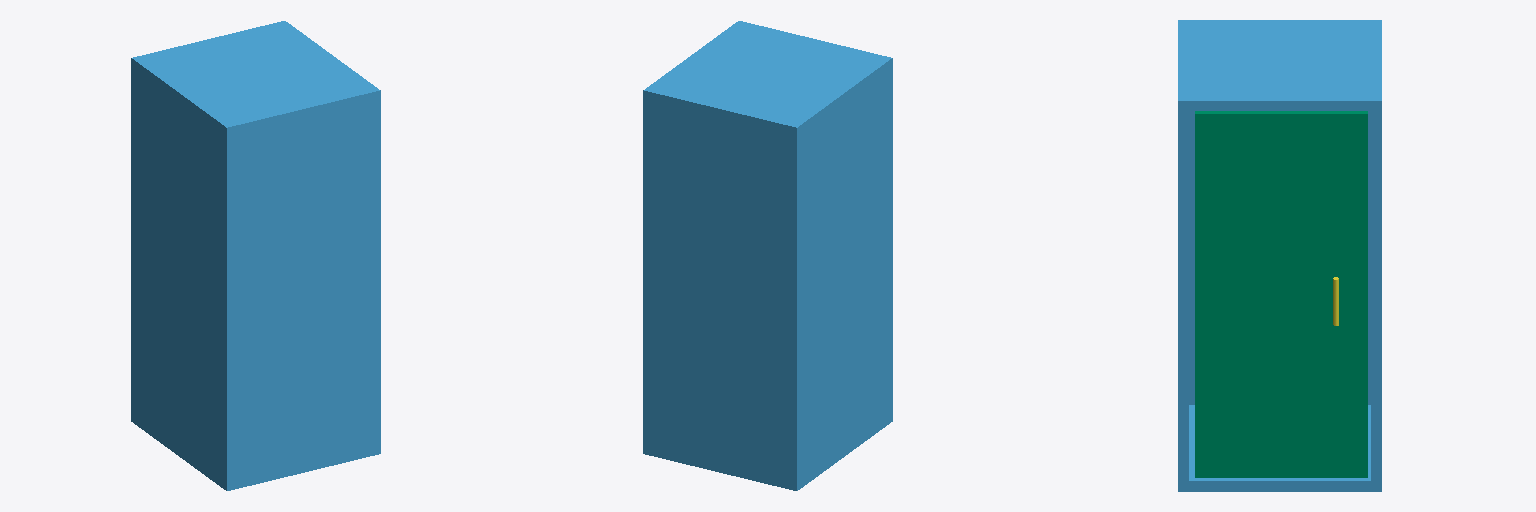
The robot description file, URDF, robot "my_cabinet":
<?xml version="1.0" ?>
<robot name="my_cabinet">
	<link name="world"/>
	<joint name="virtual_joint" type="fixed">
		<parent link="world"/>
		<child link="base_cabinet_link"/>
		<origin xyz="0.0 0.0 0.0" rpy="0.0 0.0 0.0"/>
	</joint>
	<link name="base_cabinet_link">
		<visual>
			<origin xyz="0.0 -0.0025 -0.3302910461903211" rpy="0.0 0.0 0.0"/>
			<geometry>
				<box size="0.3 0.32282359411819045 0.018"/>
			</geometry>
		</visual>
		<collision name="base_cabinet_link_collision_0">
			<origin xyz="0.0 -0.0025 -0.3302910461903211" rpy="0.0 0.0 0.0"/>
			<geometry>
				<box size="0.3 0.32282359411819045 0.018"/>
			</geometry>
		</collision>
		<visual>
			<origin xyz="0.0 0.14991179705909524 0.0" rpy="0.0 0.0 0.0"/>
			<geometry>
				<box size="0.3 0.018 0.6785820923806423"/>
			</geometry>
		</visual>
		<collision name="base_cabinet_link_collision_1">
			<origin xyz="0.0 0.14991179705909524 0.0" rpy="0.0 0.0 0.0"/>
			<geometry>
				<box size="0.3 0.018 0.6785820923806423"/>
			</geometry>
		</collision>
		<visual>
			<origin xyz="0.0 -0.15491179705909525 0.0" rpy="0.0 0.0 0.0"/>
			<geometry>
				<box size="0.3 0.018 0.6785820923806423"/>
			</geometry>
		</visual>
		<collision name="base_cabinet_link_collision_2">
			<origin xyz="0.0 -0.15491179705909525 0.0" rpy="0.0 0.0 0.0"/>
			<geometry>
				<box size="0.3 0.018 0.6785820923806423"/>
			</geometry>
		</collision>
		<visual>
			<origin xyz="0.0 -0.0025 0.3302910461903211" rpy="0.0 0.0 0.0"/>
			<geometry>
				<box size="0.3 0.32282359411819045 0.018"/>
			</geometry>
		</visual>
		<collision name="base_cabinet_link_collision_3">
			<origin xyz="0.0 -0.0025 0.3302910461903211" rpy="0.0 0.0 0.0"/>
			<geometry>
				<box size="0.3 0.32282359411819045 0.018"/>
			</geometry>
		</collision>
		<visual>
			<origin xyz="-0.141 -0.0025 0.0" rpy="0.0 0.0 0.0"/>
			<geometry>
				<box size="0.018 0.32282359411819045 0.6785820923806423"/>
			</geometry>
		</visual>
		<collision name="base_cabinet_link_collision_4">
			<origin xyz="-0.141 -0.0025 0.0" rpy="0.0 0.0 0.0"/>
			<geometry>
				<box size="0.018 0.32282359411819045 0.6785820923806423"/>
			</geometry>
		</collision>
		<inertial>
			<mass value="0.200000"/>
			<inertia ixx="0.009411" ixy="0.0" ixz="0.0" iyy="0.009175" iyz="0.0" izz="0.003237"/>
		</inertial>
	</link>
	<link name="door_link">
		<visual>
			<origin xyz="0.0 -0.13591179705909523 0.0"/>
			<geometry>
				<box size="0.018 0.27182359411819046 0.6325820923806422"/>
			</geometry>
		</visual>
		<collision name="door_link_collision">
			<origin xyz="0.0 -0.13591179705909523 0.0"/>
			<geometry>
				<box size="0.018 0.27182359411819046 0.6325820923806422"/>
			</geometry>
		</collision>
		<inertial>
			<mass value="0.200000"/>
			<inertia ixx="0.007901" ixy="0.0" ixz="0.0" iyy="0.006675" iyz="0.0" izz="0.001237"/>
		</inertial>
	</link>
	<joint name="door_joint" type="revolute">
		<origin xyz="0.141 -0.13591179705909523 0.0" rpy="0.000000 -0.000000 3.141593"/>
		<axis xyz="0 0 1"/>
		<parent link="base_cabinet_link"/>
		<child link="door_link"/>
		<limit effort="50" lower="-1.658062789394613" upper="0" velocity="10"/>
		<dynamics friction="3.5" damping="3.5"/>
	</joint>
	<link name="handle_link">
		<visual>
			<origin xyz="0.0 0.0 0.0" rpy="0.0 0.0 0.0"/>
			<geometry>
				<cylinder length="0.08" radius="0.005"/>
			</geometry>
		</visual>
		<collision name="handle_link_collision_0">
			<origin xyz="0.0 0.0 0.0" rpy="0.0 0.0 0.0"/>
			<geometry>
				<cylinder length="0.08" radius="0.005"/>
			</geometry>
		</collision>
		<visual>
			<origin xyz="-0.01 0.0 0.02" rpy="0.0 1.5707963267948966 0.0"/>
			<geometry>
				<cylinder length="0.02" radius="0.003"/>
			</geometry>
		</visual>
		<collision name="handle_link_collision_1">
			<origin xyz="-0.01 0.0 0.02" rpy="0.0 1.5707963267948966 0.0"/>
			<geometry>
				<cylinder length="0.01" radius="0.003"/>
			</geometry>
		</collision>
		<visual>
			<origin xyz="-0.01 0.0 -0.02" rpy="0.0 1.5707963267948966 0.0"/>
			<geometry>
				<cylinder length="0.02" radius="0.003"/>
			</geometry>
		</visual>
		<collision name="handle_link_collision_2">
			<origin xyz="-0.01 0.0 -0.02" rpy="0.0 1.5707963267948966 0.0"/>
			<geometry>
				<cylinder length="0.02" radius="0.003"/>
			</geometry>
		</collision>
		<inertial>
			<mass value="0.050000"/>
			<inertia ixx="0.000027" ixy="0.0" ixz="0.0" iyy="0.000029" iyz="0.0" izz="0.000003"/>
		</inertial>
	</link>
	<joint name="handle_joint" type="fixed">
		<origin xyz="-0.028999999999999998 -0.22182359411819047 0.0" rpy="0.000000 -0.000000 3.141593"/>
		<parent link="door_link"/>
		<child link="handle_link"/>
	</joint>
	<gazebo reference="base_cabinet_link">
		<sensor name="main_sensor" type="contact">
			<selfCollide>true</selfCollide>
			<alwaysOn>true</alwaysOn>
			<updateRate>5.0</updateRate>
			<material>Gazebo/Red</material>
			<contact>
				<collision>base_cabinet_link_collision_0_collision</collision>
				<collision>base_cabinet_link_collision_1_collision</collision>
				<collision>base_cabinet_link_collision_2_collision</collision>
				<collision>base_cabinet_link_collision_3_collision</collision>
				<collision>base_cabinet_link_collision_4_collision</collision>
			</contact>
			<plugin name="gazebo_ros_bumper_controller" filename="libgazebo_ros_bumper.so">
				<bumperTopicName>/contact</bumperTopicName>
				<frameName>world</frameName>
			</plugin>
		</sensor>
	</gazebo>
	<gazebo reference="door_link">
		<sensor name="main_sensor" type="contact">
			<selfCollide>true</selfCollide>
			<alwaysOn>true</alwaysOn>
			<updateRate>5.0</updateRate>
			<material>Gazebo/Red</material>
			<contact>
				<collision>door_link_collision_collision</collision>
			</contact>
			<plugin name="gazebo_ros_bumper_controller" filename="libgazebo_ros_bumper.so">
				<bumperTopicName>/contact_door</bumperTopicName>
				<frameName>contact_door</frameName>
			</plugin>
		</sensor>
	</gazebo>
	<gazebo reference="door_link">
		<mu>3.0</mu>
		<mu2>3.0</mu2>
		<kp>10000000</kp>
		<kd>100</kd>
	</gazebo>
</robot>

--- Facts derived from the render (not from the file) ---
3 views of the same robot in one strip: view 1: azimuth 30°, elevation 25°; view 2: azimuth 150°, elevation 25°; view 3: azimuth 270°, elevation 25° (orthographic).
Robot: my_cabinet — 4 links, 3 joints (1 revolute, 2 fixed); root link world; default pose: all joints at 0.
Visible links, largest first — view 1: base_cabinet_link; view 2: base_cabinet_link; view 3: door_link, base_cabinet_link.
Link boxes in pixels (x1=…): base_cabinet_link: x1=131, y1=21, x2=380, y2=490; base_cabinet_link: x1=643, y1=21, x2=892, y2=490; door_link: x1=1195, y1=111, x2=1367, y2=477; base_cabinet_link: x1=1178, y1=20, x2=1381, y2=491.
Size in the robot's own frame: 0.325 by 0.3228 by 0.6786 metres.
Geometry: primitives only (box / cylinder / sphere), no mesh files.
